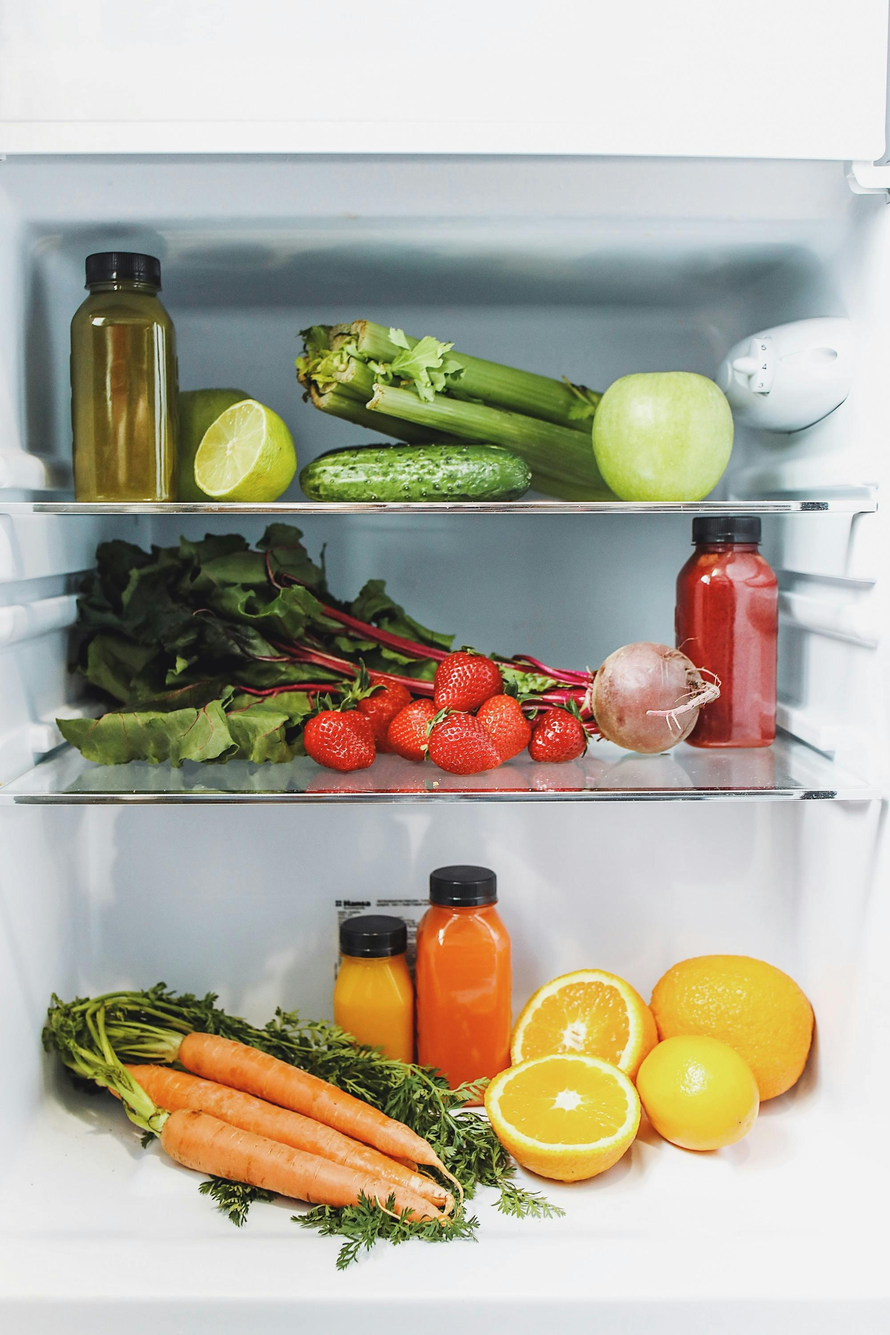apple: (595, 375, 739, 507)
carror: (98, 926, 507, 1269)
lemon: (178, 385, 340, 512)
orange: (649, 957, 815, 1109), (490, 1052, 645, 1181), (512, 969, 660, 1081), (636, 1035, 760, 1153)
spinch: (44, 539, 511, 701)
strawberry: (296, 666, 635, 804)
